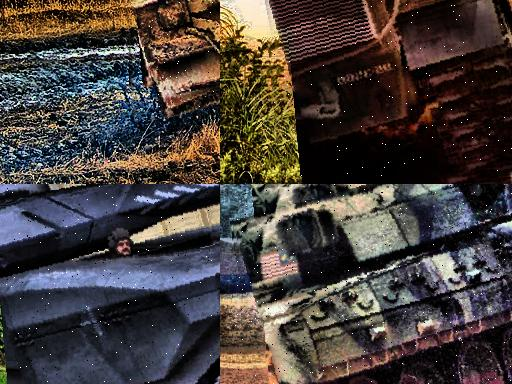tanks: (234, 185, 512, 384), (1, 185, 221, 384), (271, 1, 512, 178), (131, 1, 221, 120)
